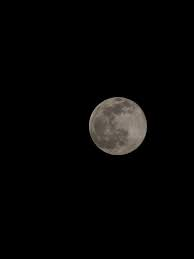moon: (85, 94, 155, 160)
